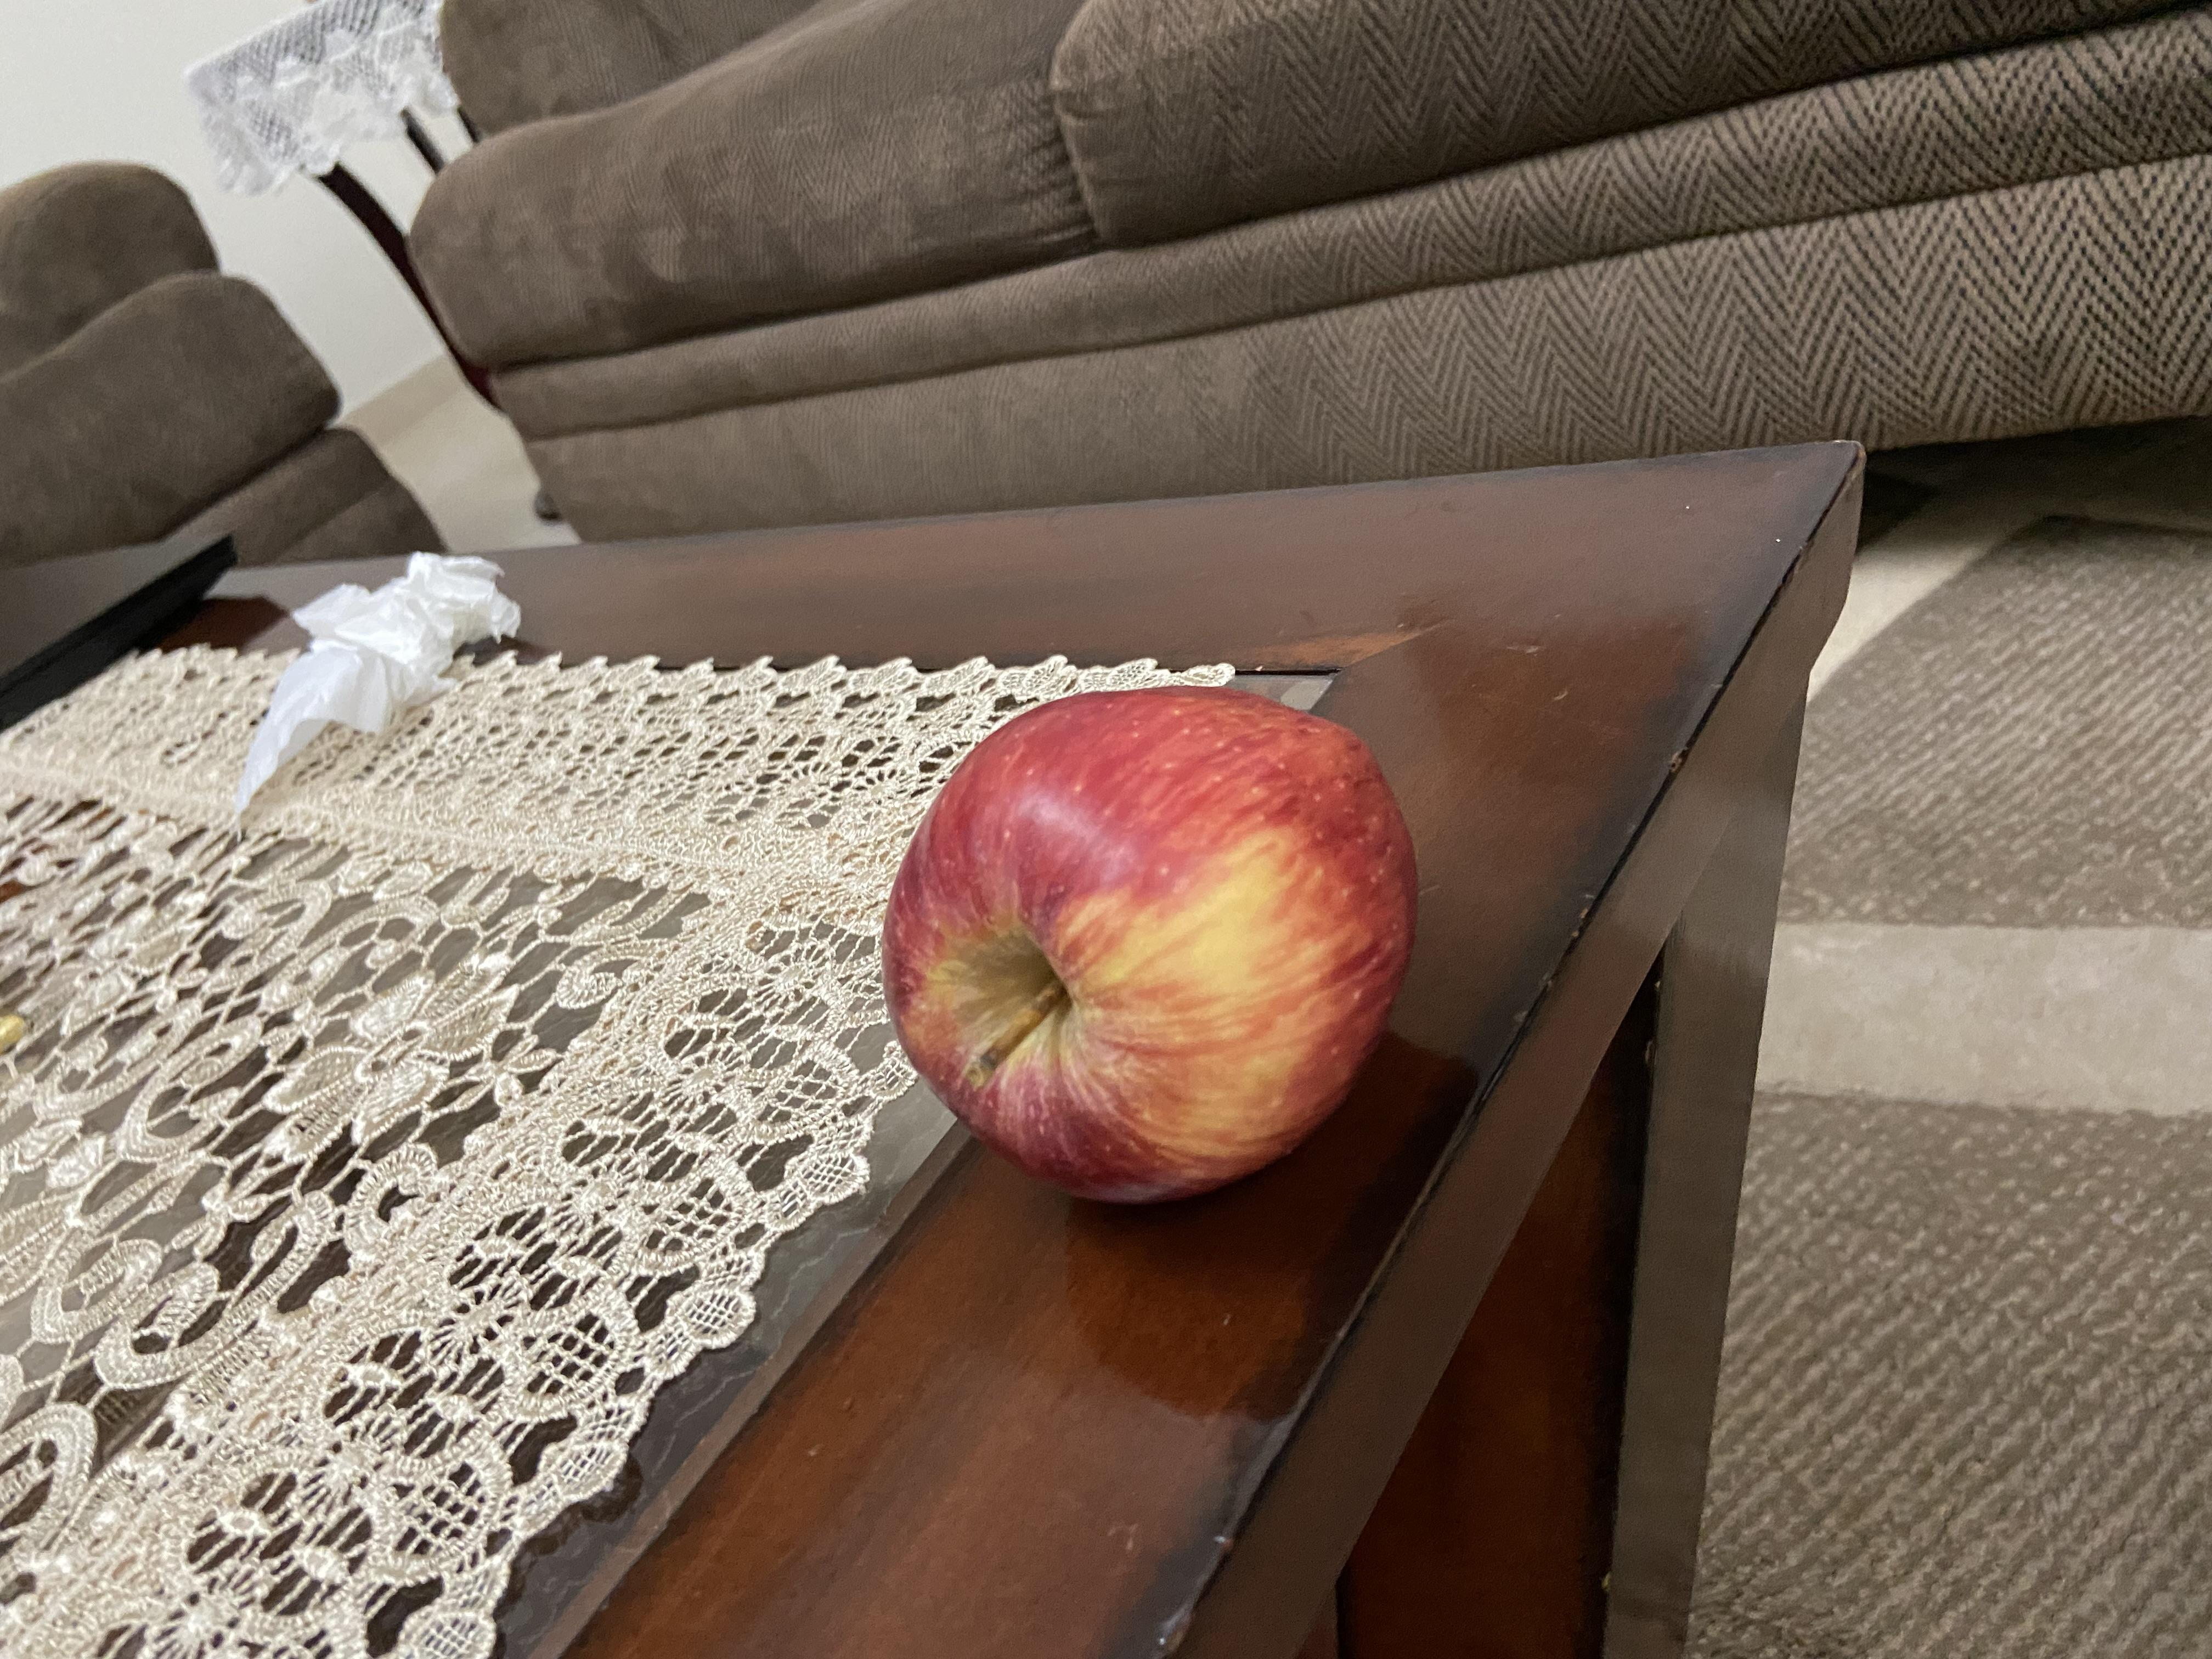Apple: (874, 653, 1438, 1201)
